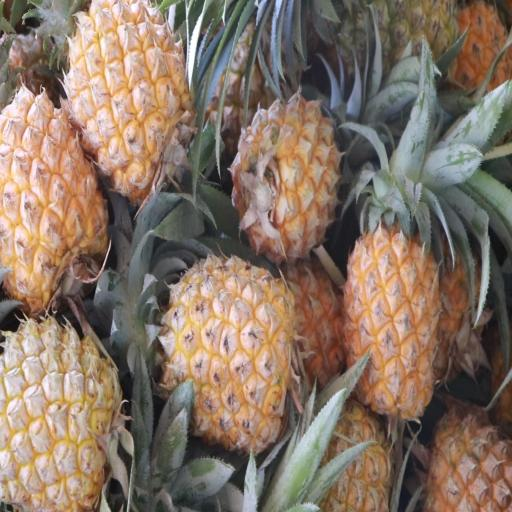Pineapple - v8 v1: (162, 260, 291, 449), (0, 88, 109, 309), (71, 0, 192, 192), (0, 323, 119, 512), (342, 216, 440, 417), (234, 94, 340, 258)
